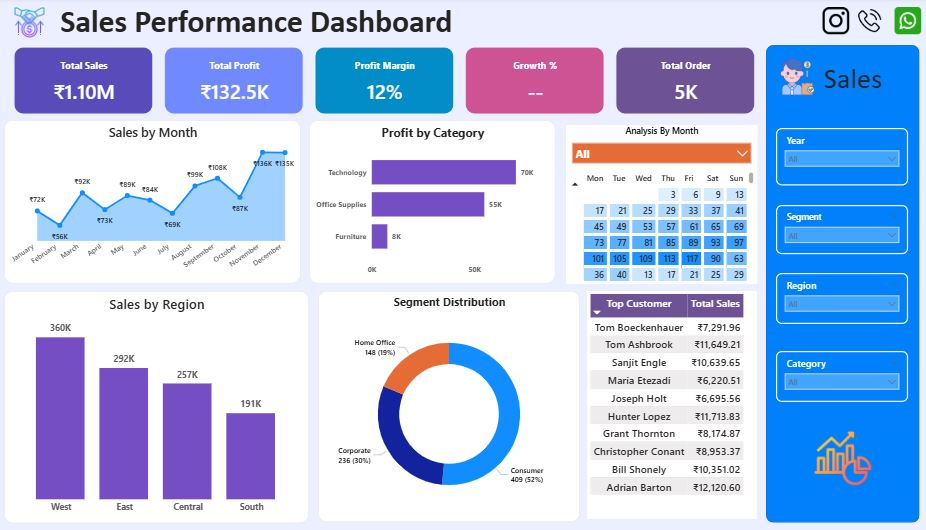

The page's visual inventory and layout, read from the dashboard file:
{"tool":"powerbi","page":{"name":"Sales_Analysis","canvas":[1570,900],"ordinal":0},"visuals":[{"type":"textbox","box":[75.6,1.8,723.6,79.2],"z":0},{"type":"image","box":[12.6,14.4,86.4,52.2],"z":1000},{"type":"shape","box":[1297.8,79.2,259.2,806.4],"z":2000},{"type":"cardVisual","fields":{"Data":["order.Total Sales","order.Total Profit","order.Profit Margin","Calendar_table.Growth %","order.Total Order"]},"box":[12.6,66.6,1285.2,147.6],"z":3000},{"type":"slicer","fields":{"Values":["Calendar_table.Date.Variation.Date Hierarchy.Year"]},"box":[1315.8,219.6,223.2,97.2],"z":4000},{"type":"slicer","fields":{"Values":["customer_dataset.Region"]},"box":[1315.8,464.4,223.2,86.4],"z":6000},{"type":"slicer","fields":{"Values":["customer_dataset.Segment"]},"box":[1315.8,349.2,223.2,82.8],"z":7000},{"type":"slicer","fields":{"Values":["product_dataset.Category"]},"box":[1315.8,595.8,223.2,86.4],"z":8000},{"type":"donutChart","title":"Segment Distribution","fields":{"Category":["customer_dataset.Segment"],"Y":["Count(order.Customer ID)"]},"box":[541.9,494.6,442.3,390],"z":9000},{"type":"tableEx","title":"Top 10 Customer","fields":{"Values":["customer_dataset.Customer Name","order.Total Sales"]},"box":[996,494.6,287,384.9],"z":10000},{"type":"lineChart","title":"Sales by Month","fields":{"Y":["order.Total Sales"],"Category":["Calendar_table.Date.Variation.Date Hierarchy.Month"]},"box":[12.4,206,500.7,276.1],"z":11000},{"type":"clusteredColumnChart","title":"Sales by Region","fields":{"Category":["customer_dataset.Region"],"Y":["Sum(order.Sales)"]},"box":[11.8,494.6,514.9,391.7],"z":12000},{"type":"barChart","title":"Profit by Category","fields":{"Category":["product_dataset.Category"],"Y":["Sum(order.Profit)"]},"box":[527.5,206,416.2,276.1],"z":13000},{"type":"slicer","title":"Analysis By Month","fields":{"Values":["Calendar_table.Date.Variation.Date Hierarchy.Month"]},"box":[960.1,214.3,323.5,267.8],"z":15000},{"type":"image","box":[1315.8,100.8,70.2,63],"z":16000},{"type":"textbox","box":[1333.8,100.8,223.2,75.6],"z":17000},{"type":"image","box":[1377,727.2,100.8,99],"z":18000},{"type":"pivotTable","fields":{"Rows":["Calendar_table.Week number"],"Columns":["Calendar_table.Day Name"],"Values":["Sum(Calendar_table.Day Number)"]},"box":[960.6,288.7,322.4,194.1],"z":18001},{"type":"image","box":[1509.2,15.2,57.4,45.6],"z":18002},{"type":"image","box":[1436.6,18.6,72.6,38.8],"z":18003},{"type":"image","box":[1387.7,15.2,57.4,45.6],"z":18004}]}

Visuals, with their boxes in screenshot pixels (x1, y1, x2, y2), scaled from the page's 1570x900 canvas onto the 926x530 screenshot:
textbox: (x1=45, y1=1, x2=471, y2=48)
image: (x1=7, y1=8, x2=58, y2=39)
shape: (x1=765, y1=47, x2=918, y2=522)
cardVisual - order.Total Sales x order.Total Profit: (x1=7, y1=39, x2=765, y2=126)
slicer - Calendar_table.Date.Variation.Date Hierarchy.Year: (x1=776, y1=129, x2=908, y2=187)
slicer - customer_dataset.Region: (x1=776, y1=273, x2=908, y2=324)
slicer - customer_dataset.Segment: (x1=776, y1=206, x2=908, y2=254)
slicer - product_dataset.Category: (x1=776, y1=351, x2=908, y2=402)
"Segment Distribution" donutChart: (x1=320, y1=291, x2=580, y2=521)
"Top 10 Customer" tableEx: (x1=587, y1=291, x2=757, y2=518)
"Sales by Month" lineChart: (x1=7, y1=121, x2=303, y2=284)
"Sales by Region" clusteredColumnChart: (x1=7, y1=291, x2=311, y2=522)
"Profit by Category" barChart: (x1=311, y1=121, x2=557, y2=284)
"Analysis By Month" slicer: (x1=566, y1=126, x2=757, y2=284)
image: (x1=776, y1=59, x2=817, y2=96)
textbox: (x1=787, y1=59, x2=918, y2=104)
image: (x1=812, y1=428, x2=872, y2=487)
pivotTable - Calendar_table.Week number x Calendar_table.Day Name: (x1=567, y1=170, x2=757, y2=284)
image: (x1=890, y1=9, x2=924, y2=36)
image: (x1=847, y1=11, x2=890, y2=34)
image: (x1=818, y1=9, x2=852, y2=36)
